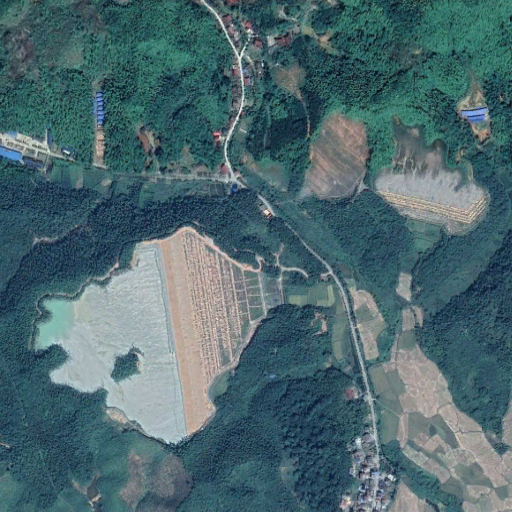tp: (32, 227, 287, 448), (376, 118, 492, 256)
